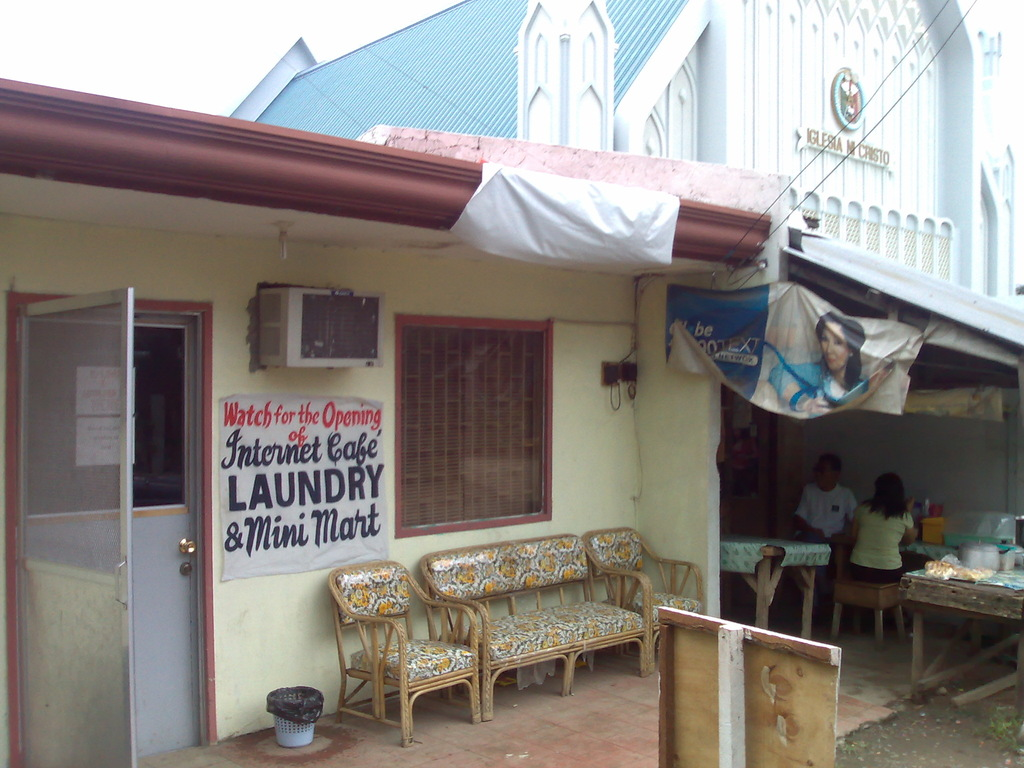Couch: (289, 531, 728, 739)
